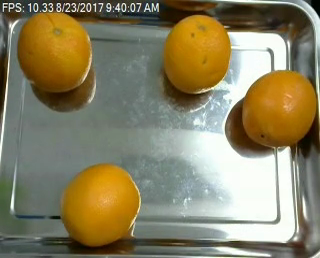Orange: (57, 163, 140, 246), (17, 11, 92, 91), (240, 71, 317, 148), (161, 13, 230, 93)
